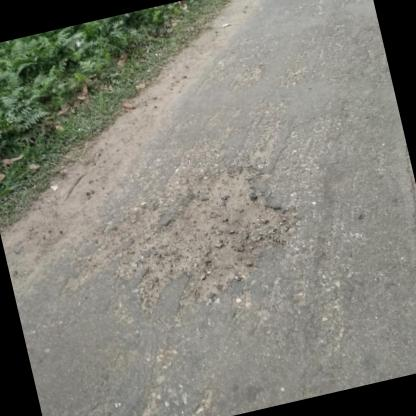pothole: (134, 154, 304, 304)
